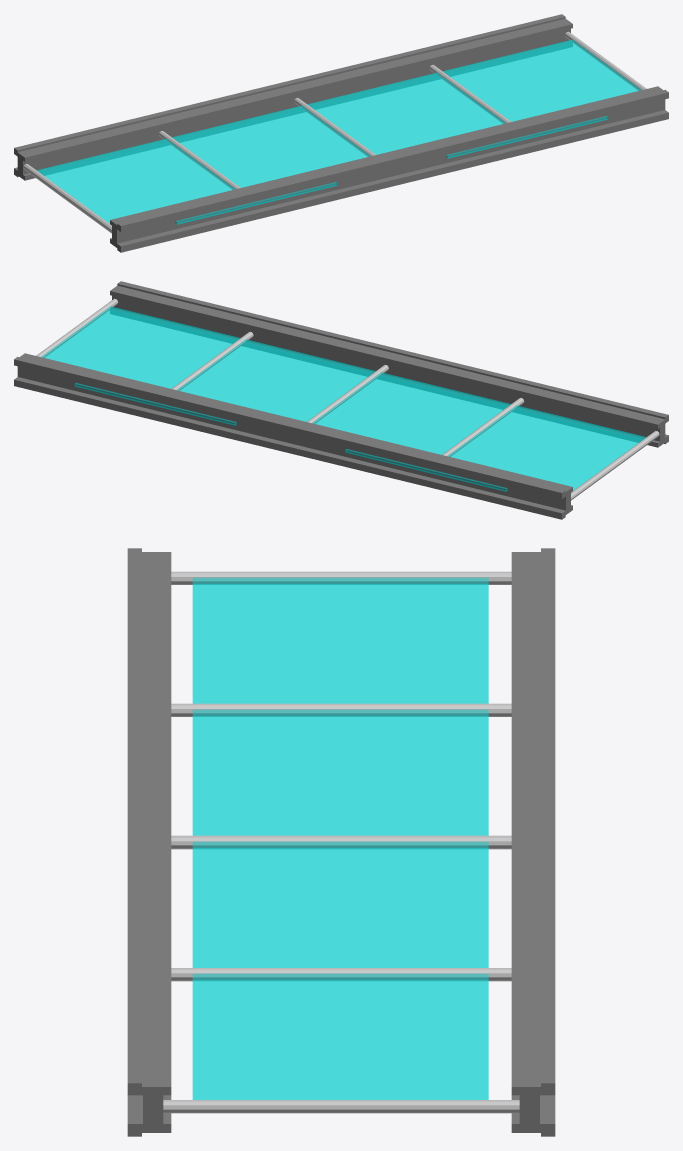
File: shortPlatform.fbx
3 views of the same model, one above another, from view 1: azimuth 30°, elevation 25°; view 2: azimuth 150°, elevation 25°; view 3: azimuth 270°, elevation 25° (orthographic). The views are drawn at different scales.
Visible parts, largest first — view 1: leftEnd (×2), rightEnd (×2), plate1 (×2), plate2 (×2), sideStrip (×2), holder1 (×2), holder2 (×2), holder3; view 2: rightEnd (×2), leftEnd (×2), plate1 (×2), plate2 (×2), sideStrip (×2), holder1 (×2), holder2 (×2), holder3; view 3: plate1 (×2), plate2 (×2), leftEnd (×2), rightEnd (×2), holder1 (×2), holder2 (×2), holder3.
Part boxes in pixels (bbox=[...]): leftEnd (×2): bbox=[110, 86, 668, 252]; rightEnd (×2): bbox=[14, 14, 572, 180]; plate1 (×2): bbox=[37, 72, 505, 223]; plate2 (×2): bbox=[172, 39, 641, 187]; sideStrip (×2): bbox=[175, 116, 608, 224]; holder1 (×2): bbox=[23, 98, 375, 233]; holder2 (×2): bbox=[158, 65, 511, 189]; holder3: bbox=[564, 31, 646, 90]; rightEnd (×2): bbox=[14, 353, 572, 519]; leftEnd (×2): bbox=[110, 281, 668, 447]; plate1 (×2): bbox=[177, 339, 646, 490]; plate2 (×2): bbox=[41, 306, 510, 454]; sideStrip (×2): bbox=[74, 383, 507, 491]; holder1 (×2): bbox=[307, 365, 659, 500]; holder2 (×2): bbox=[171, 332, 524, 456]; holder3: bbox=[36, 298, 118, 357]; plate1 (×2): bbox=[192, 577, 488, 967]; plate2 (×2): bbox=[192, 709, 488, 1099]; leftEnd (×2): bbox=[127, 548, 171, 1136]; rightEnd (×2): bbox=[511, 548, 555, 1136]; holder1 (×2): bbox=[171, 571, 511, 849]; holder2 (×2): bbox=[171, 703, 511, 981]; holder3: bbox=[163, 1100, 519, 1113].
Size of the model in its own units: 28.52 by 1.33 by 9.63.
